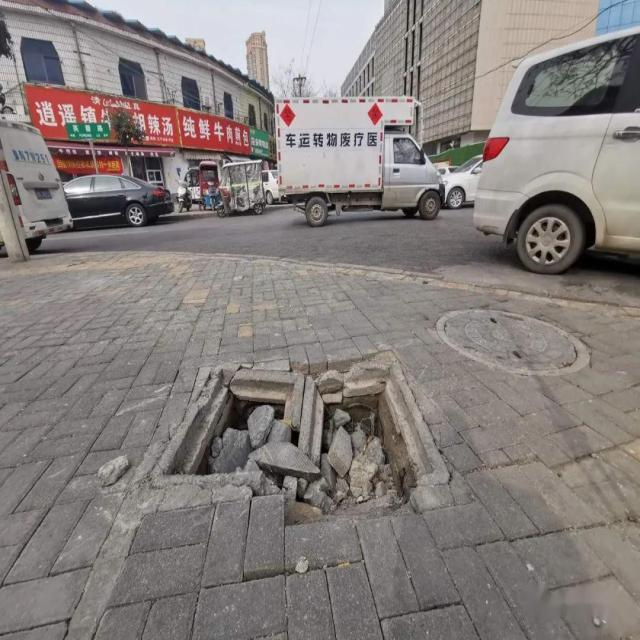manhole: (436, 309, 590, 375)
